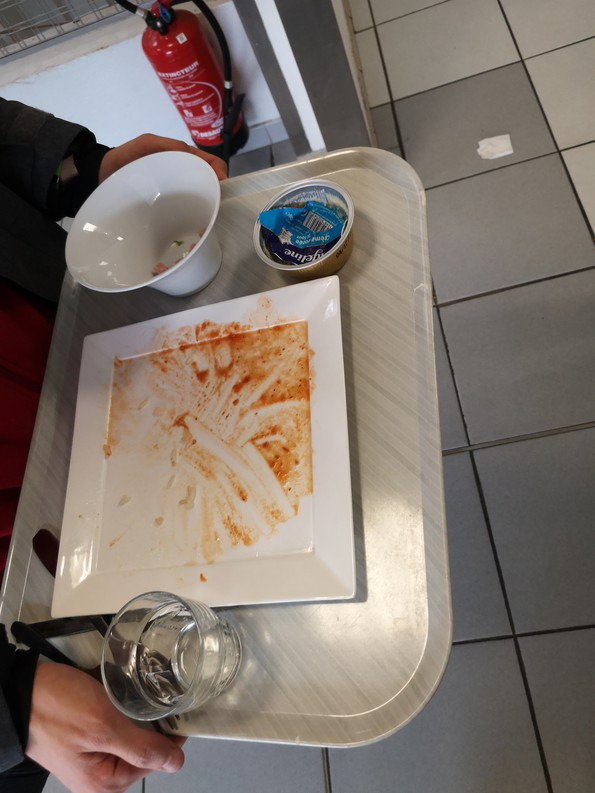cup: (100, 597, 264, 723)
trash: (251, 180, 356, 273)
